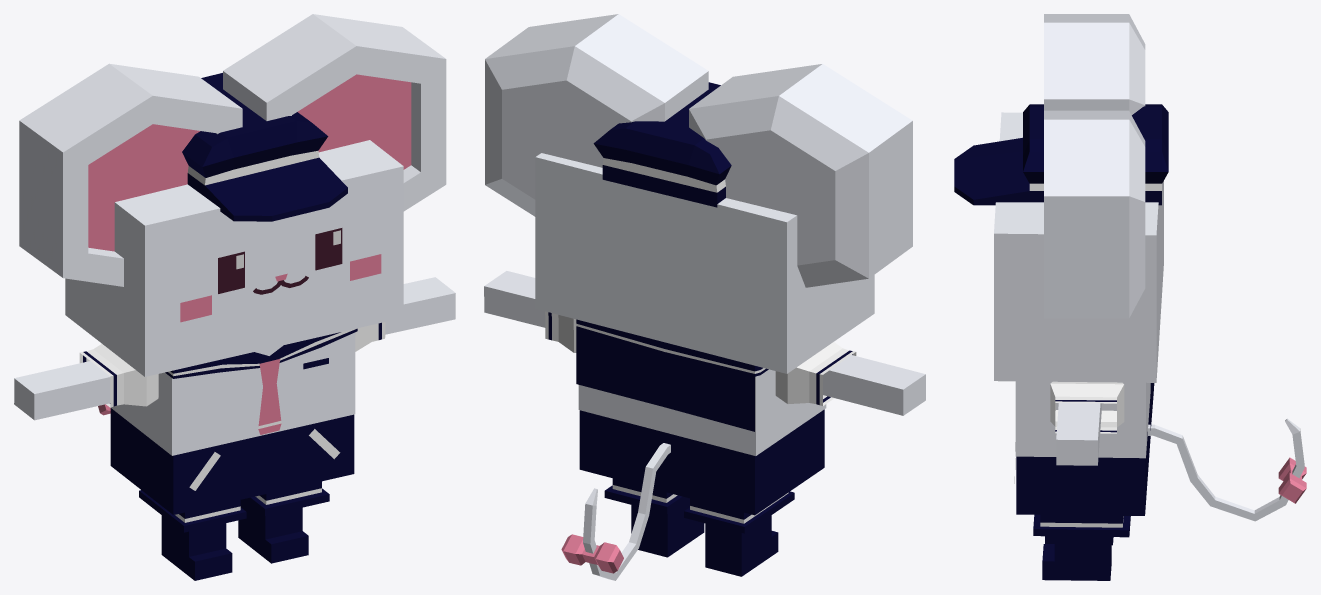
The model's file is npc_mouse_1.fbx.
The picture shows the model from 3 angles, left to right: view 1: azimuth 30°, elevation 25°; view 2: azimuth 150°, elevation 25°; view 3: azimuth 270°, elevation 25°; orthographic projection. The views are drawn at different scales.
Visible parts, largest first — view 1: ear, head, T-shirt, Pants, cap, arm.R, socks.R, socks.L, arm.L, T-shirt.R, clothes2, eye (+6 smaller); view 2: ear, head, Pants, clothes2, cap, T-shirt, arm.R, socks.R, tail, T-shirt.R, arm.L, socks.L (+4 smaller); view 3: ear, head, cap, Pants, T-shirt, socks.L, arm.L, tail, T-shirt.L, Pants.L, ribbon.
Part boxes in pixels (x1=…): ear: x1=19, y1=14, x2=446, y2=286; head: x1=65, y1=140, x2=403, y2=376; T-shirt: x1=111, y1=332, x2=355, y2=455; Pants: x1=110, y1=408, x2=354, y2=514; cap: x1=182, y1=73, x2=347, y2=221; arm.R: x1=14, y1=361, x2=110, y2=420; socks.R: x1=161, y1=515, x2=232, y2=580; socks.L: x1=238, y1=499, x2=308, y2=563; arm.L: x1=385, y1=277, x2=455, y2=334; T-shirt.R: x1=79, y1=344, x2=158, y2=407; clothes2: x1=165, y1=328, x2=357, y2=378; eye: x1=218, y1=228, x2=342, y2=293; ear: x1=485, y1=14, x2=912, y2=287; head: x1=535, y1=153, x2=874, y2=373; Pants: x1=579, y1=409, x2=824, y2=515; clothes2: x1=576, y1=319, x2=768, y2=431; cap: x1=593, y1=82, x2=731, y2=207; T-shirt: x1=578, y1=369, x2=826, y2=455; arm.R: x1=823, y1=355, x2=925, y2=415; socks.R: x1=705, y1=515, x2=778, y2=576; tail: x1=583, y1=443, x2=670, y2=580; T-shirt.R: x1=775, y1=342, x2=856, y2=405; arm.L: x1=484, y1=271, x2=545, y2=327; socks.L: x1=631, y1=499, x2=704, y2=557; ear: x1=1044, y1=14, x2=1145, y2=318; head: x1=994, y1=112, x2=1163, y2=382; cap: x1=954, y1=104, x2=1168, y2=205; Pants: x1=1016, y1=394, x2=1150, y2=515; T-shirt: x1=1015, y1=381, x2=1150, y2=458; socks.L: x1=1042, y1=536, x2=1111, y2=580; arm.L: x1=1056, y1=403, x2=1101, y2=465; tail: x1=1148, y1=418, x2=1304, y2=521; T-shirt.L: x1=1050, y1=381, x2=1124, y2=433; Pants.L: x1=1033, y1=514, x2=1130, y2=537; ribbon: x1=1278, y1=457, x2=1306, y2=503.
Size of the model in its own units: 398 by 449 by 297.
